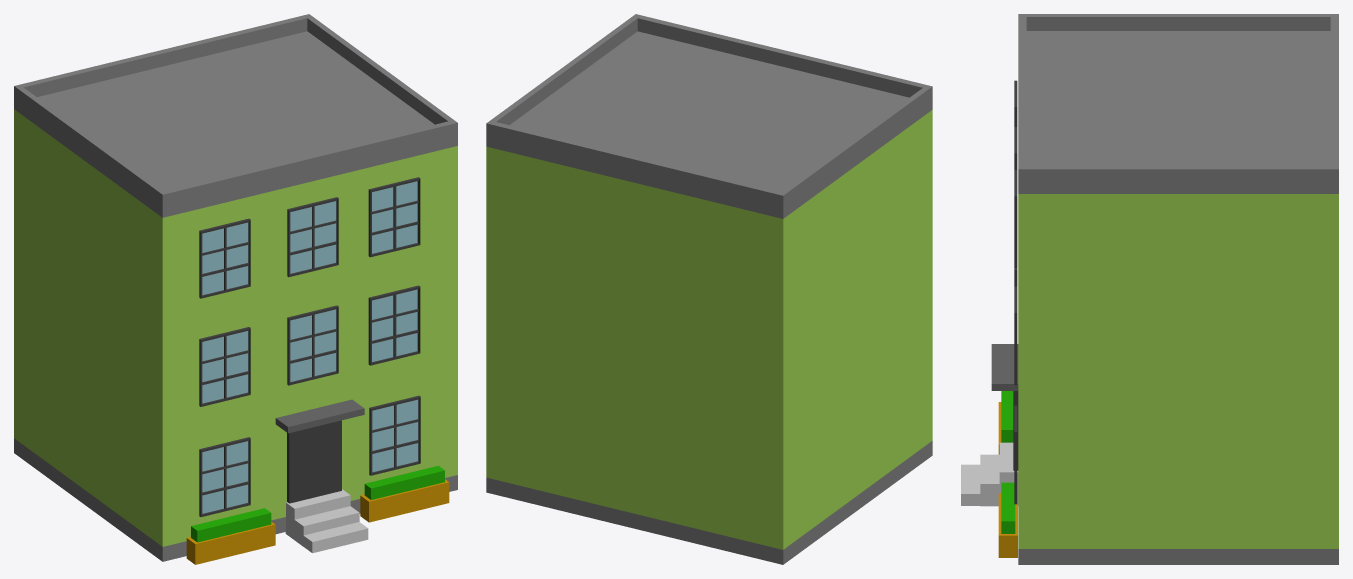
The model's file is building.fbx.
3 views of the same model, side by side, from view 1: azimuth 30°, elevation 25°; view 2: azimuth 150°, elevation 25°; view 3: azimuth 270°, elevation 25° (orthographic). The views are drawn at different scales.
Parts seen in each view (by area): view 1: Building; view 2: Building; view 3: Building.
Boxes of the visible parts, x1,y1,x2,y2 form: Building: (14,14,457,564); Building: (486,14,932,564); Building: (961,14,1338,564).
Bounding box in the file's own units: 735 × 879 × 756.
